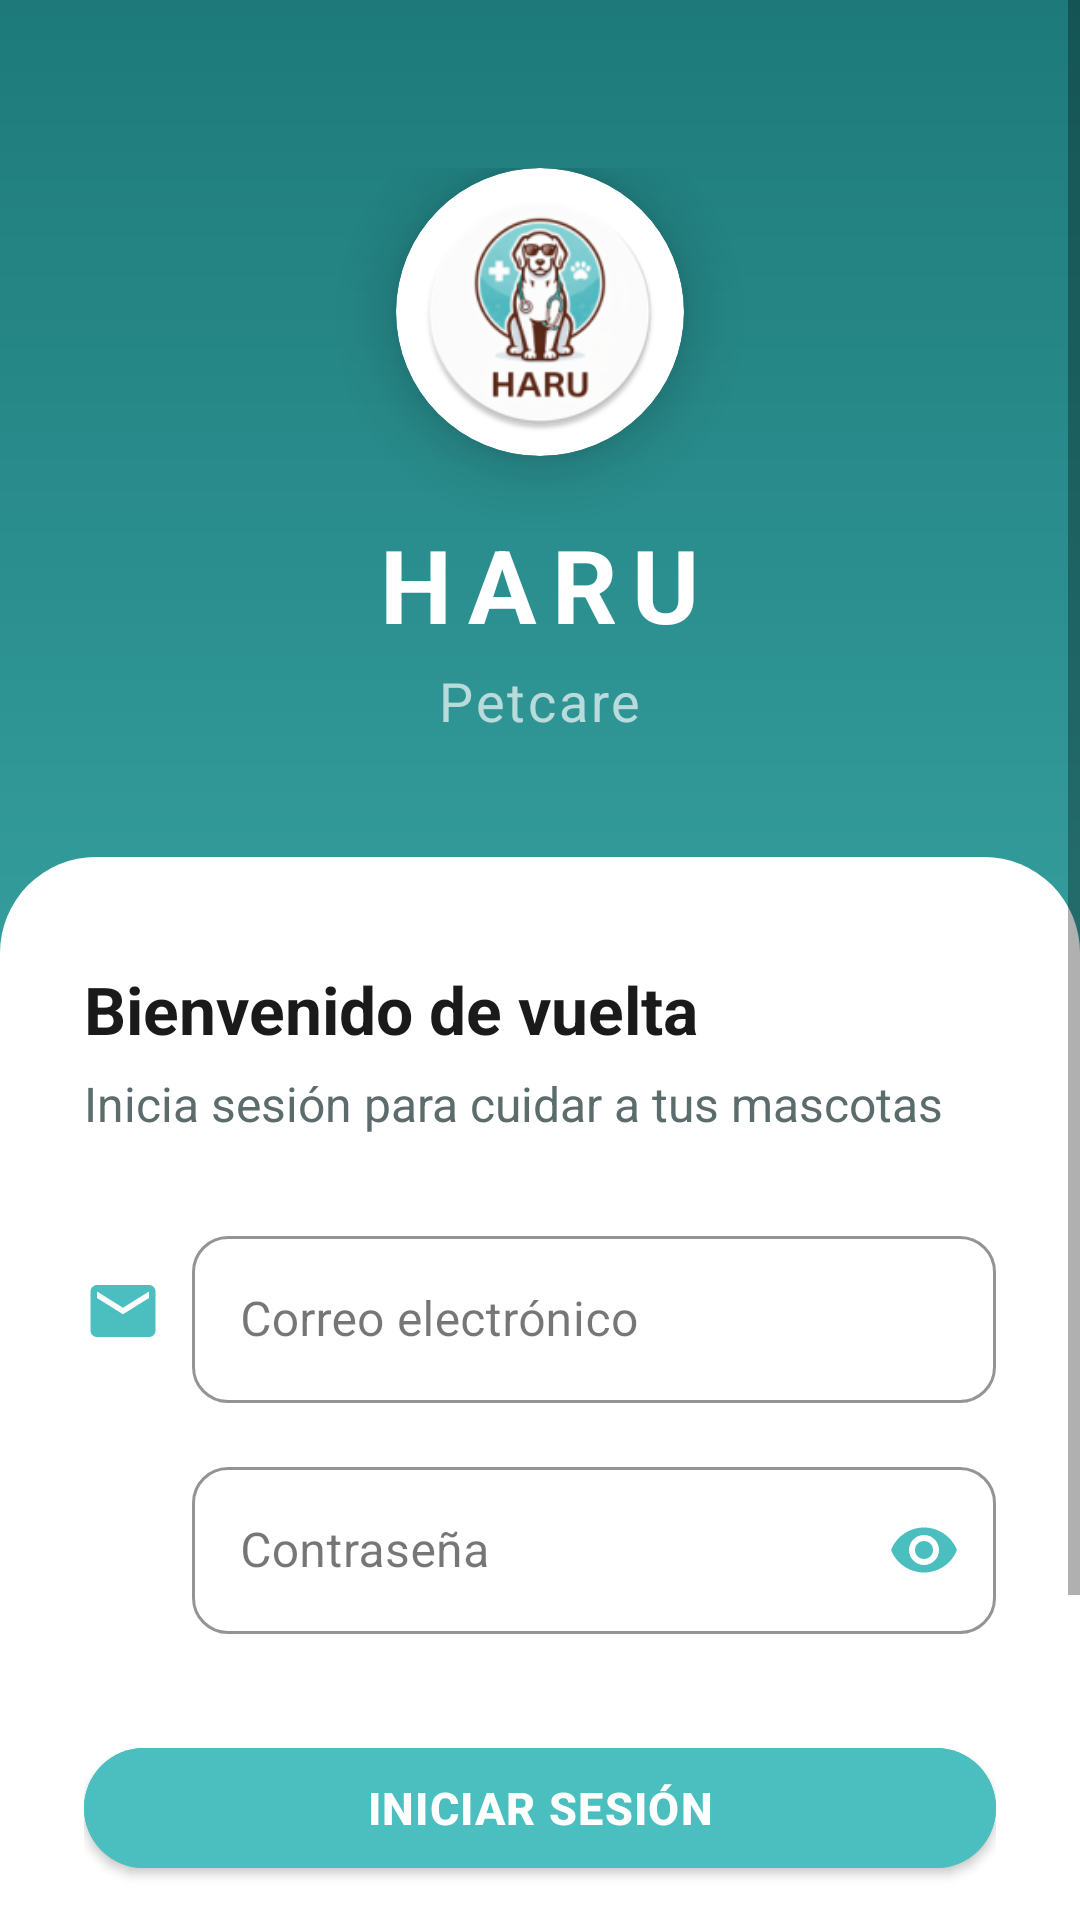

Icon click points for this 1080×1920 phone screenshot, format [x,y]:
email: [123,1311]
